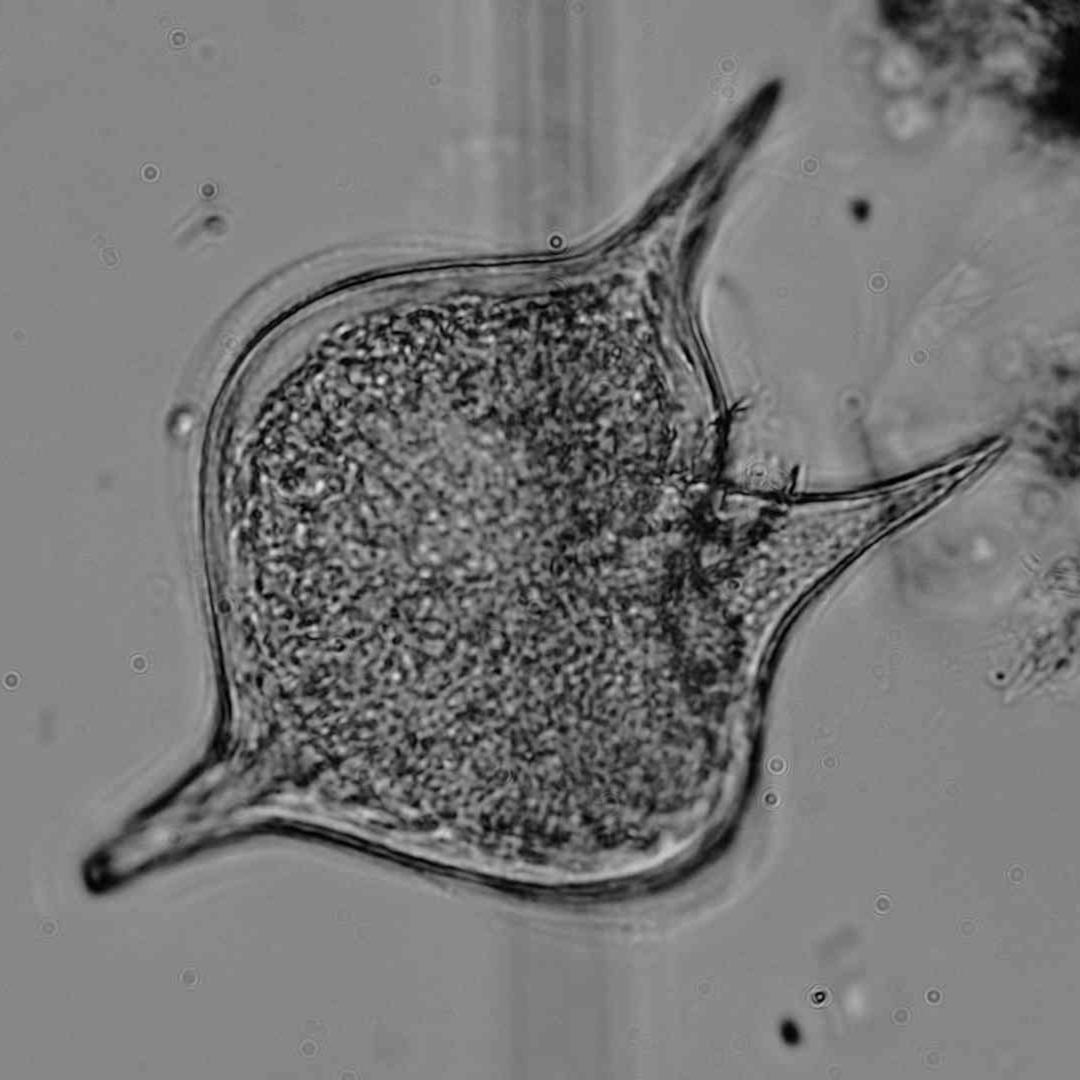protoperidinium_oceanicum: (92, 81, 1011, 888)
